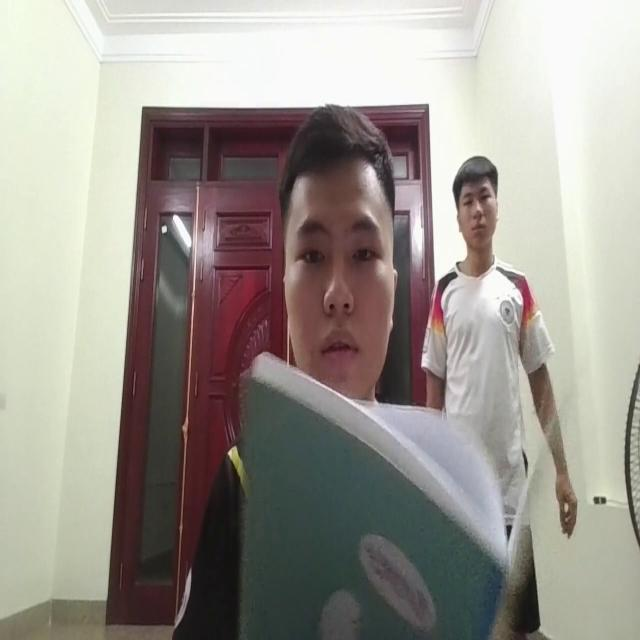book: (225, 338, 493, 640)
extra_person: (438, 140, 529, 464)
student: (274, 97, 402, 377)
